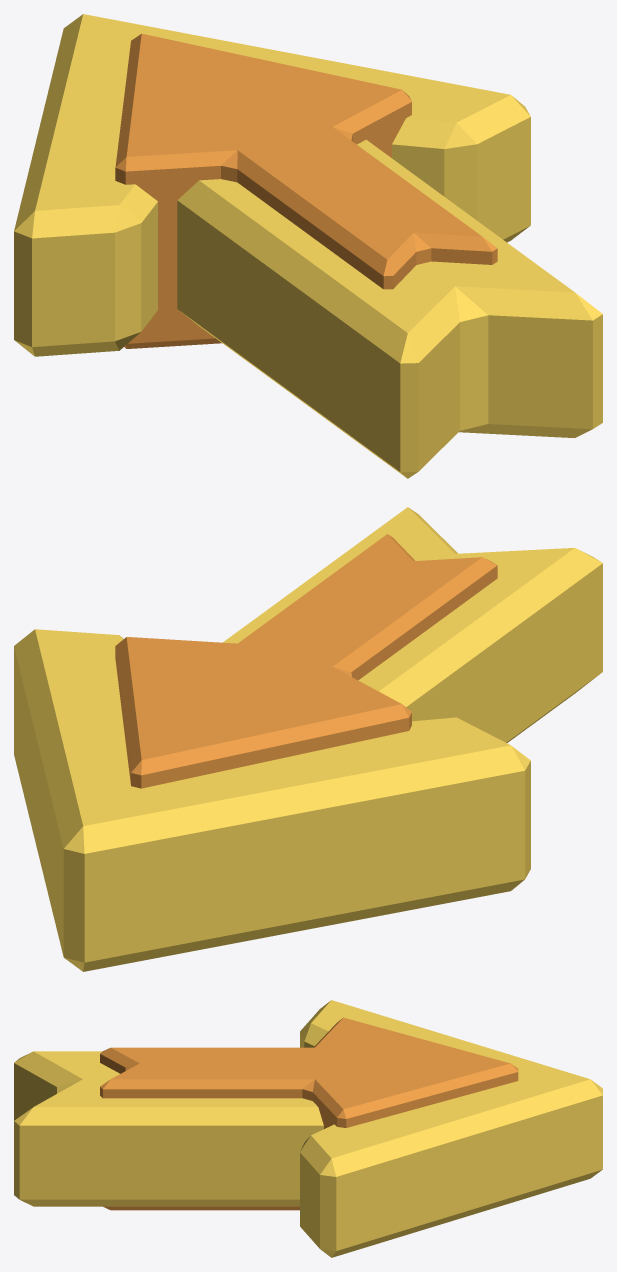
Rendered from SM_MissionArrow.fbx.
3 renders of one model, top to bottom at view 1: azimuth 30°, elevation 25°; view 2: azimuth 150°, elevation 25°; view 3: azimuth 270°, elevation 25°, orthographic. The views are drawn at different scales.
Parts seen in each view (by area): view 1: Arrow_Core, Arrow_Trim; view 2: Arrow_Core, Arrow_Trim; view 3: Arrow_Core, Arrow_Trim.
Part boxes in pixels (<box>): Arrow_Core: <box>14,14,602,478</box>; Arrow_Trim: <box>115,33,497,348</box>; Arrow_Core: <box>14,507,602,971</box>; Arrow_Trim: <box>115,534,497,788</box>; Arrow_Core: <box>14,1000,602,1257</box>; Arrow_Trim: <box>100,1017,518,1210</box>.
Bounding box in the file's own units: 0.8072 × 0.29 × 1.18.
